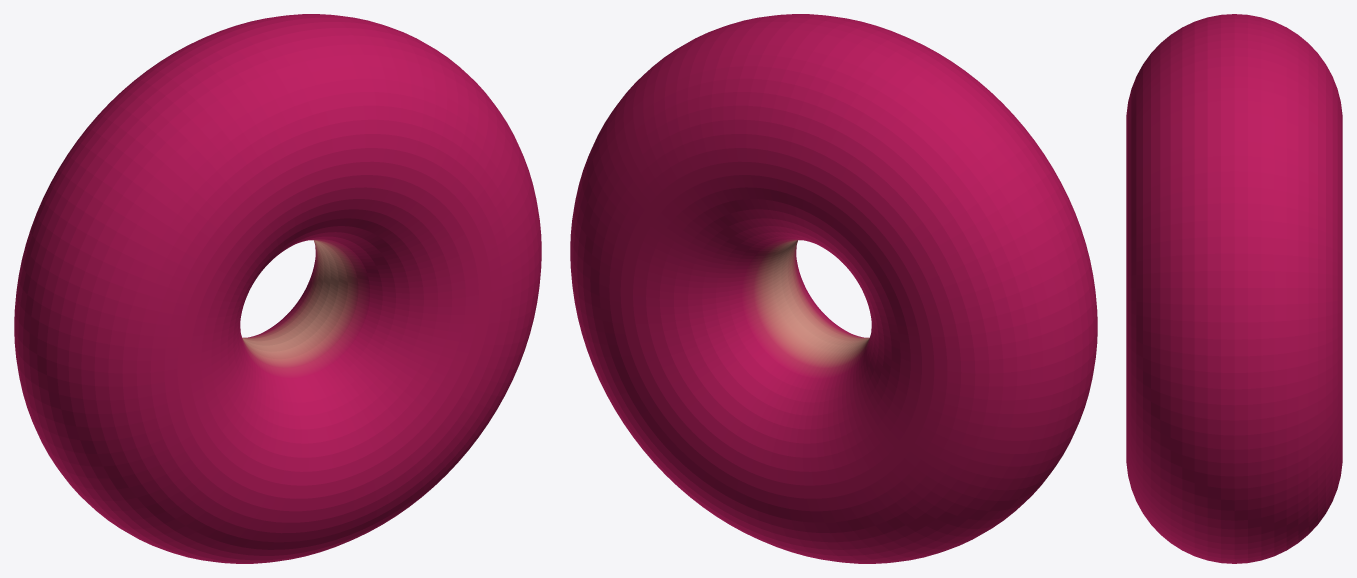
The picture shows the model from 3 angles, left to right: view 1: azimuth 30°, elevation 25°; view 2: azimuth 150°, elevation 25°; view 3: azimuth 270°, elevation 25°; orthographic projection. The views are drawn at different scales.
Visible parts, largest first — view 1: world; view 2: world; view 3: world.
Part boxes in pixels (x1,y1,x2,y2): world: (14,14,541,563); world: (570,14,1097,563); world: (1126,14,1342,563).
Size of the model in its own units: 22 by 22 by 8.65.
